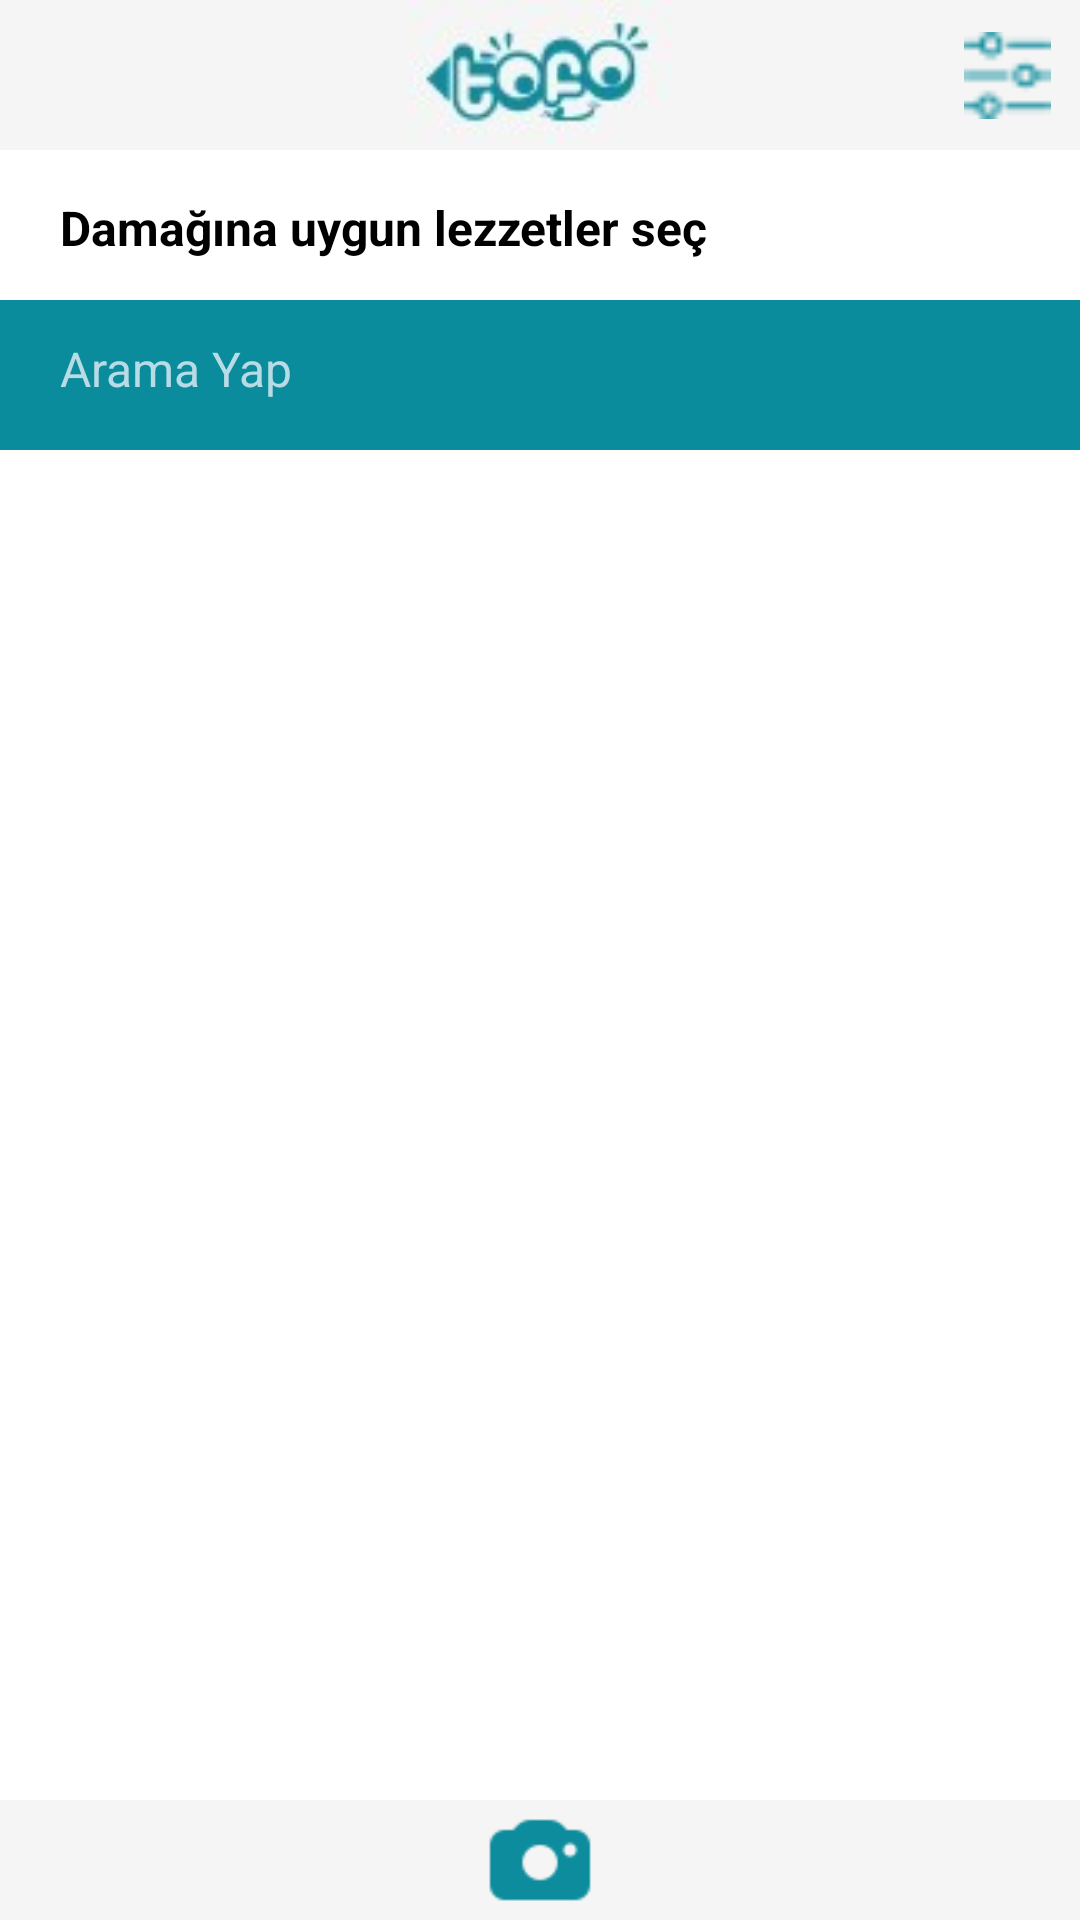

Icons on this 1080w x 1920h Android screen, each with its box as (x1, y1, x2, y2):
anasayfa kamera: (489, 1819, 591, 1901)
secim ayarlar: (964, 32, 1051, 119)
